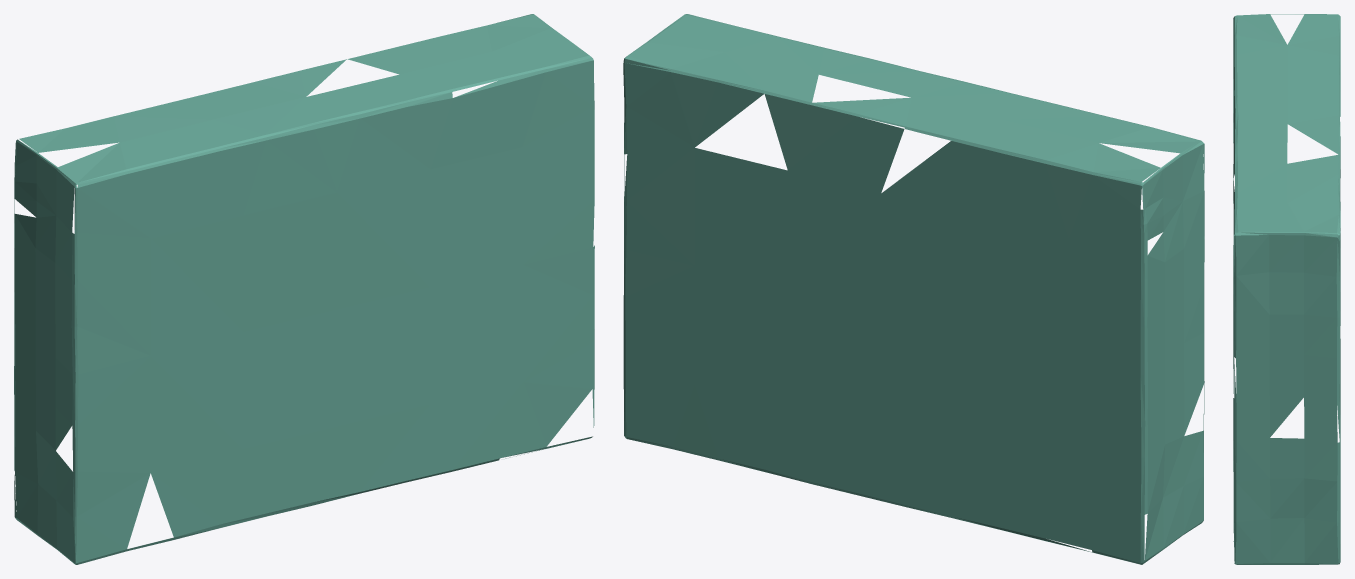
Rendered from misc_printerPaper_a02.glb.
3 renders of one model, left to right at view 1: azimuth 30°, elevation 25°; view 2: azimuth 150°, elevation 25°; view 3: azimuth 270°, elevation 25°, orthographic. The views are drawn at different scales.
Parts seen in each view (by area): view 1: geometry_0; view 2: geometry_0; view 3: geometry_0.
Part boxes in pixels (<box>): geometry_0: <box>14,14,594,564</box>; geometry_0: <box>623,14,1204,564</box>; geometry_0: <box>1233,14,1340,564</box>.
Bounding box in the file's own units: 0.48 × 0.3361 × 0.0983.
